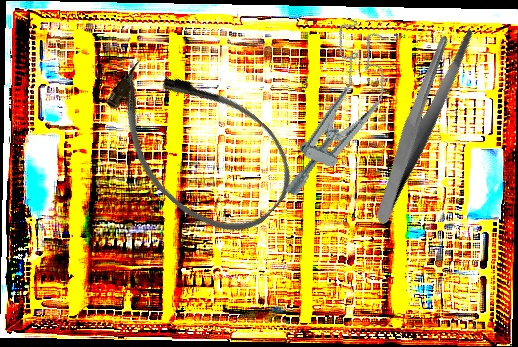Cannula: (83, 33, 313, 256)
Dressing Forceps: (328, 19, 513, 226)
Speculum: (272, 16, 406, 212)
